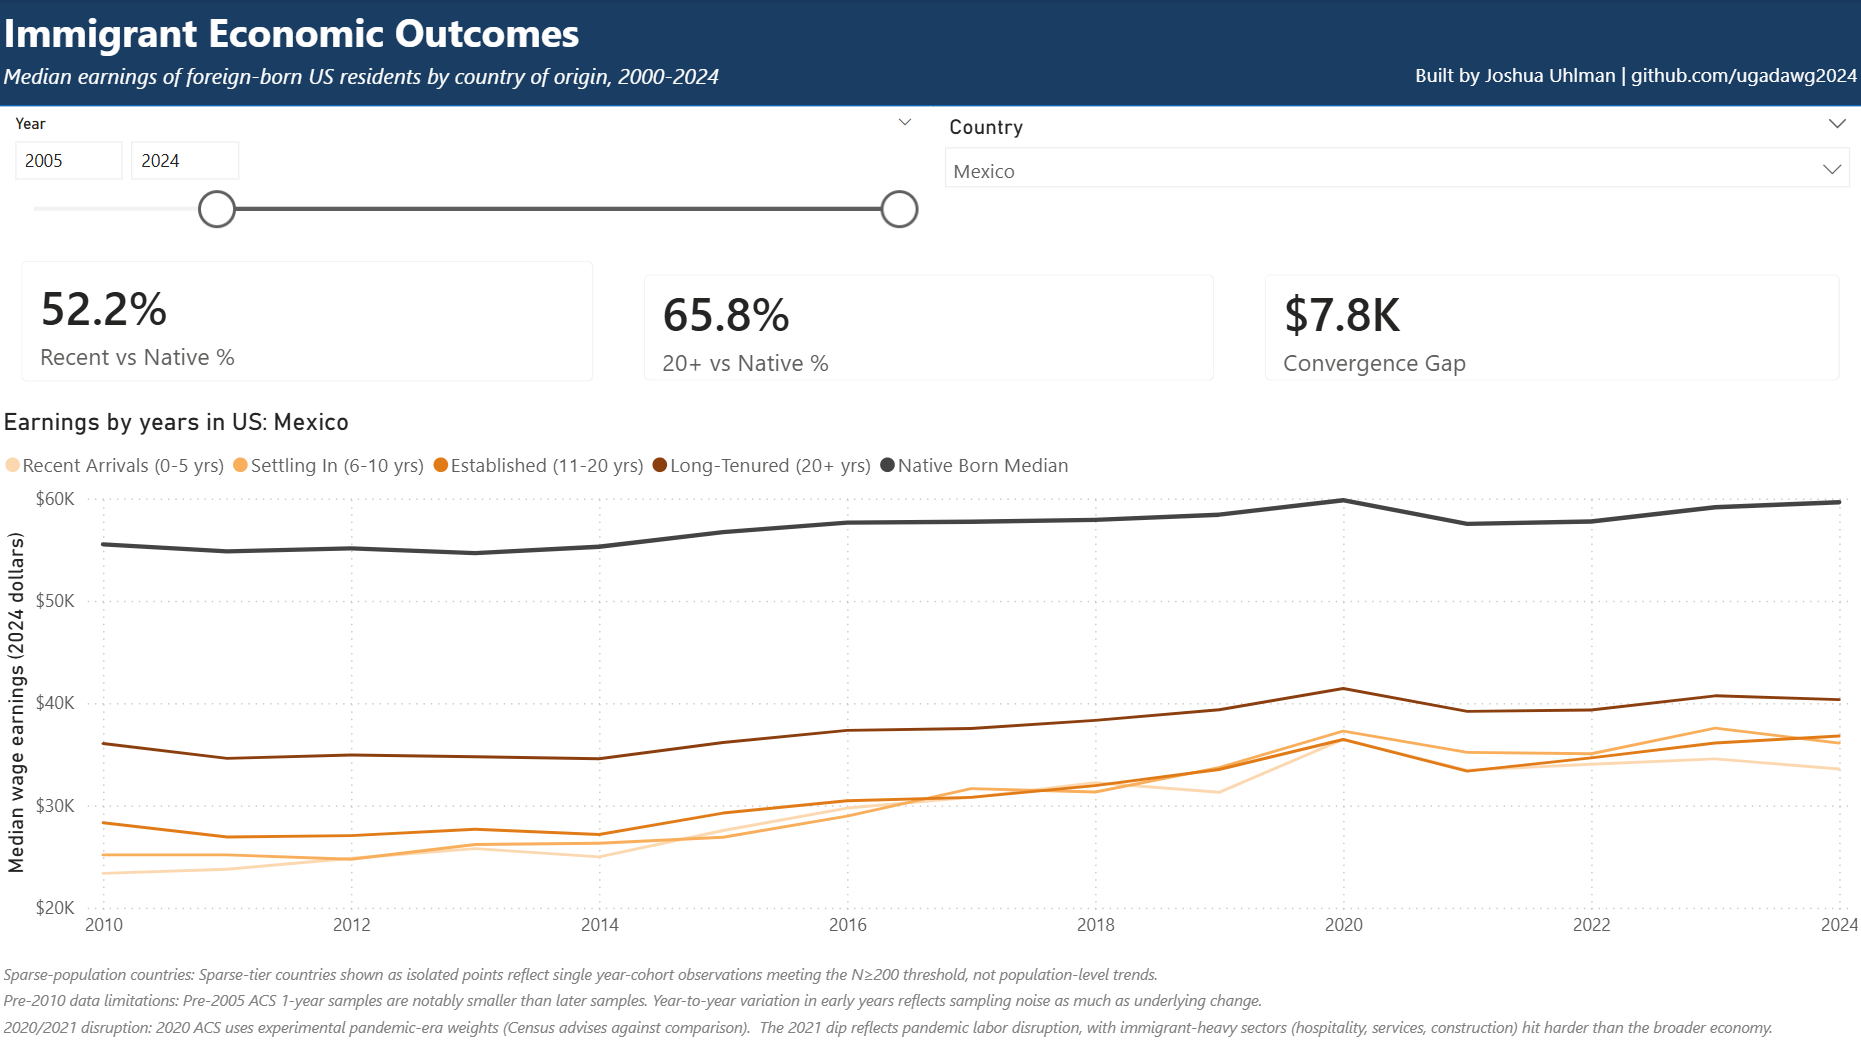

What the dashboard file says about the page in this screenshot:
{"tool":"powerbi","page":{"name":"Trajectory","canvas":[1280,720],"ordinal":1},"visuals":[{"type":"shape","box":[0,0,1280.4,75],"z":0},{"type":"textbox","box":[0,0,505.6,47.3],"z":1000},{"type":"textbox","box":[0,38,571.4,37],"z":2000},{"type":"textbox","box":[914.6,38,365.8,37],"z":3000},{"type":"slicer","fields":{"Values":["Date.Year"]},"box":[0,75,640.2,97.6],"z":4000},{"type":"slicer","fields":{"Values":["Countries.Country"]},"box":[640.2,75,640.2,97.6],"z":5000},{"type":"lineChart","fields":{"Category":["Date.Year"],"Y":["Medians.Recent Arrivals (0-5 yrs)","Medians.Settling In (6-10 yrs)","Medians.Established (11-20 yrs)","Medians.Long-Tenured (20+ yrs)","Medians.Native Born Median"]},"box":[0,280.5,1280.4,356.6],"z":6000},{"type":"cardVisual","fields":{"Data":["Medians.Recent vs Native %"]},"box":[0,163.4,426.5,117.1],"z":7000},{"type":"cardVisual","fields":{"Data":["Medians.20+ vs Native"]},"box":[426.5,172.6,425.4,107.9],"z":8000},{"type":"cardVisual","fields":{"Data":["Medians.Convergence Gap"]},"box":[851.9,172.6,428.5,107.9],"z":9000},{"type":"textbox","box":[0,637.1,1280.4,83.2],"z":10000}]}

Visuals, with their boxes in screenshot pixels (x1, y1, x2, y2), scaled from the page's 1280x720 canvas onto the 1861x1044 screenshot:
shape: [x1=0, y1=0, x2=1860, y2=109]
textbox: [x1=0, y1=0, x2=735, y2=69]
textbox: [x1=0, y1=55, x2=831, y2=109]
textbox: [x1=1330, y1=55, x2=1860, y2=109]
slicer - Date.Year: [x1=0, y1=109, x2=931, y2=250]
slicer - Countries.Country: [x1=931, y1=109, x2=1860, y2=250]
lineChart - Date.Year x Medians.Recent Arrivals (0-5 yrs): [x1=0, y1=407, x2=1860, y2=924]
cardVisual - Medians.Recent vs Native %: [x1=0, y1=237, x2=620, y2=407]
cardVisual - Medians.20+ vs Native: [x1=620, y1=250, x2=1239, y2=407]
cardVisual - Medians.Convergence Gap: [x1=1239, y1=250, x2=1860, y2=407]
textbox: [x1=0, y1=924, x2=1860, y2=1043]
